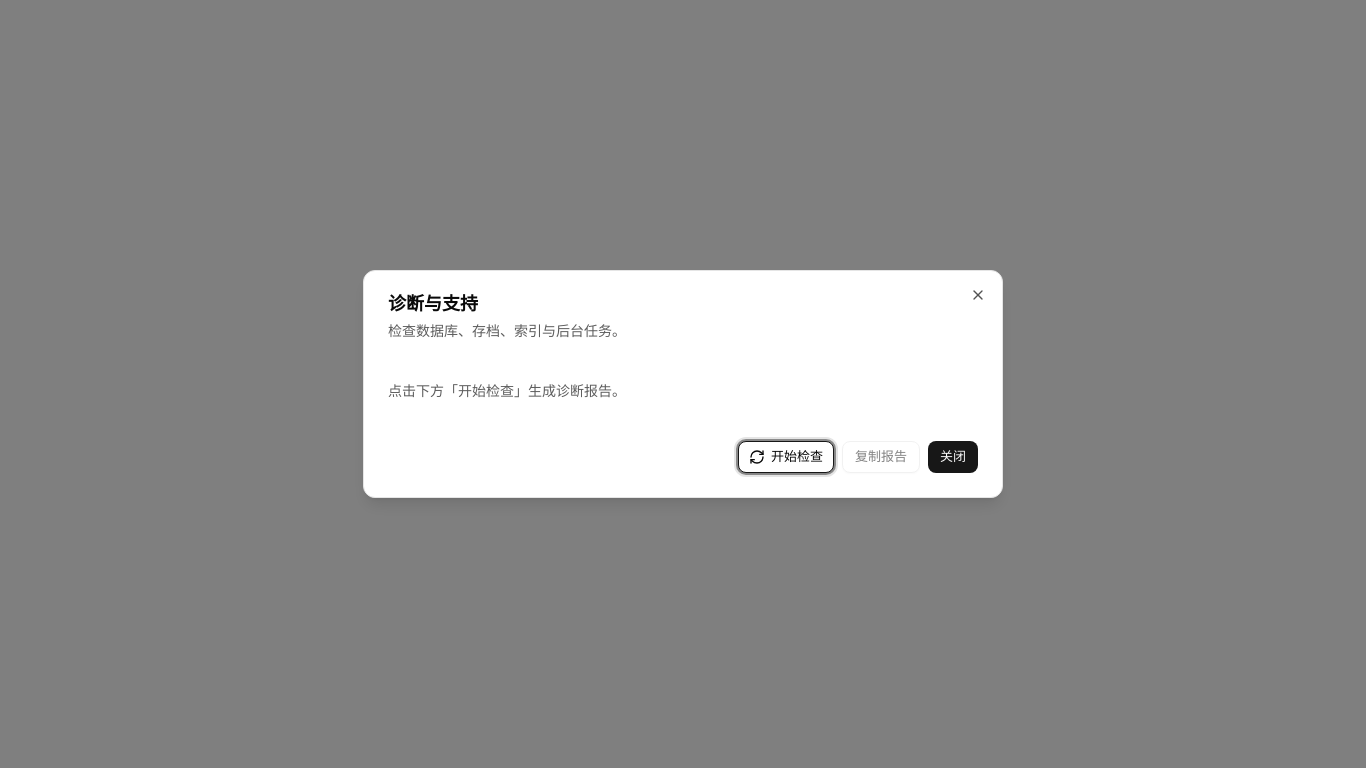
Test: runs diagnostics and renders pass/fail items
Click the button "开始检查": (786, 457) 738,441 -> 834,473
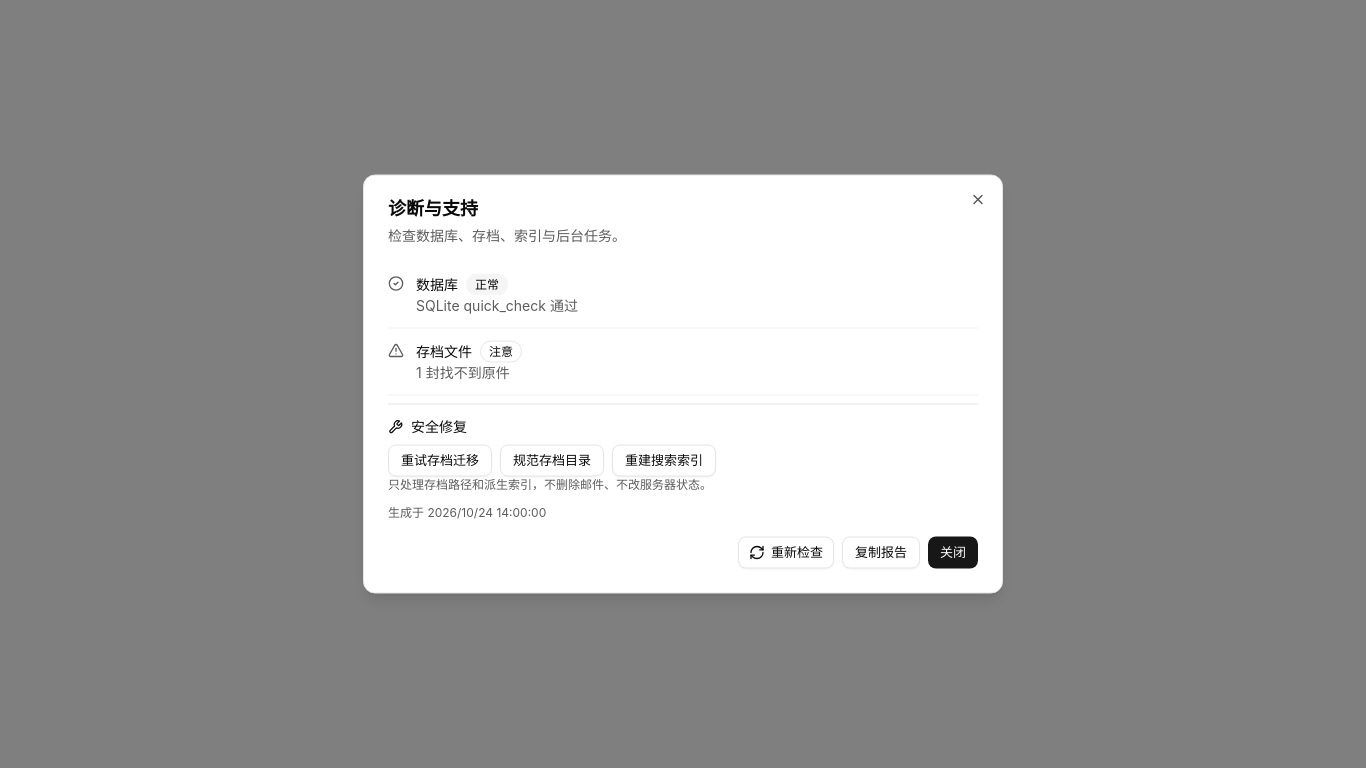
Check: the text "SQLite quick_check 通过" is shown, box 416,296 -> 578,314
Check: the text "1 封找不到原件" is shown, box 416,364 -> 510,380
Check: the text "注意" is shown, box 480,340 -> 522,362
